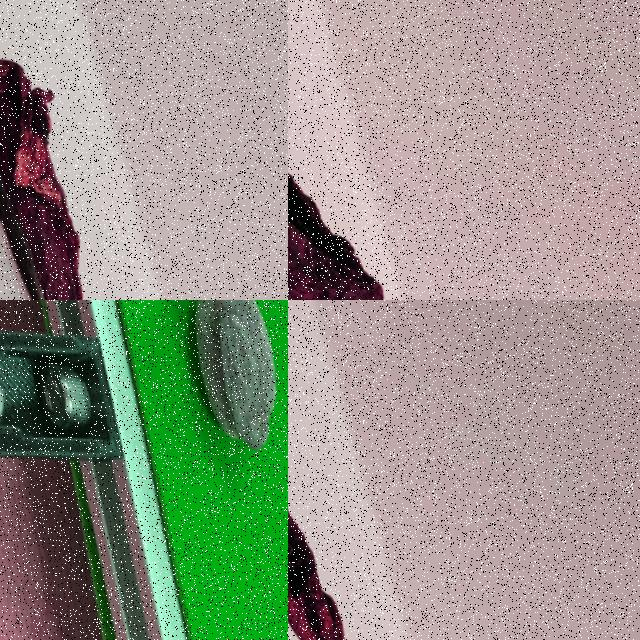Agglomerated_cocoabeans: (100, 300, 287, 546)
Flat_cocoabeans: (0, 0, 167, 299), (288, 300, 398, 639), (288, 0, 411, 299)
